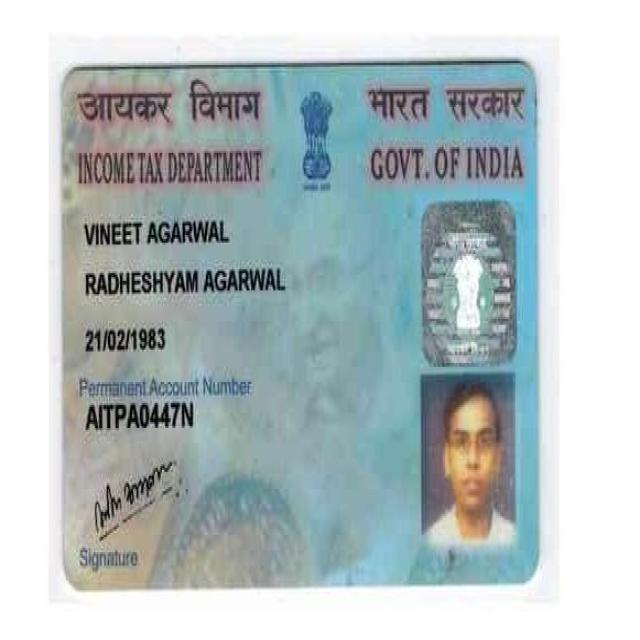pan_card: (60, 66, 535, 588)
